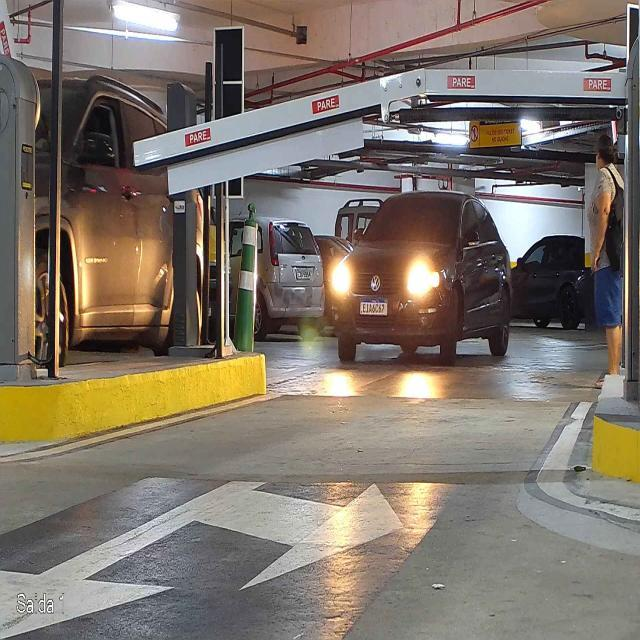mercosul_plate: (358, 297, 388, 317)
